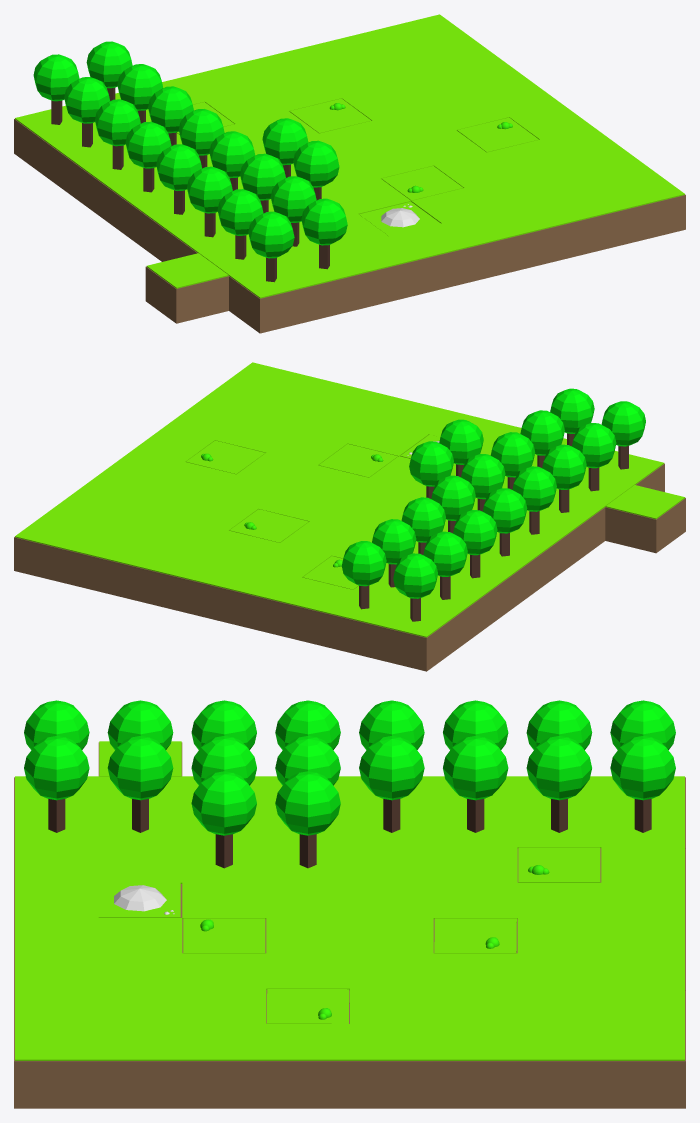
File: Map.glb
3 views of the same model, one above another, from view 1: azimuth 30°, elevation 25°; view 2: azimuth 150°, elevation 25°; view 3: azimuth 270°, elevation 25° (orthographic). The views are drawn at different scales.
Parts seen in each view (by area): view 1: Short Tree.013, Short Tree.014, Blank Tile, Short Tree.006, Short Tree.008, Short Tree.007, Short Tree.003, Short Tree.011, Blank Tile.034, Blank Tile.025, Blank Tile.040, Blank Tile.041 (+48 smaller); view 2: Short Tree.008, Short Tree.001, Blank Tile, Short Tree.007, Short Tree.006, Short Tree.016, Short Tree.011, Short Tree.003, Blank Tile.011, Blank Tile.019, Blank Tile.013, Blank Tile.006 (+48 smaller); view 3: Blank Tile.034, Blank Tile.010, Blank Tile.035, Blank Tile.011, Blank Tile.039, Blank Tile.014, Blank Tile.015, Blank Tile.038, Short Tree.004, Short Tree.010, Short Tree.001, Short Tree.014 (+53 smaller).
Part boxes in pixels (bbox=[...]): Short Tree.013: bbox=[229, 211, 314, 333]; Short Tree.014: bbox=[283, 198, 367, 320]; Blank Tile: bbox=[145, 253, 228, 323]; Short Tree.006: bbox=[106, 121, 188, 243]; Short Tree.008: bbox=[14, 54, 96, 175]; Short Tree.007: bbox=[75, 99, 157, 220]; Short Tree.003: bbox=[45, 77, 126, 198]; Short Tree.011: bbox=[137, 144, 218, 261]; Blank Tile.034: bbox=[601, 171, 685, 242]; Blank Tile.025: bbox=[389, 223, 473, 294]; Blank Tile.040: bbox=[442, 210, 526, 281]; Blank Tile.041: bbox=[495, 197, 579, 268]; Short Tree.008: bbox=[374, 553, 456, 671]; Short Tree.001: bbox=[322, 541, 404, 658]; Blank Tile: bbox=[605, 485, 685, 553]; Short Tree.007: bbox=[436, 510, 516, 627]; Short Tree.006: bbox=[466, 488, 546, 605]; Short Tree.016: bbox=[525, 444, 605, 561]; Short Tree.011: bbox=[496, 466, 575, 583]; Short Tree.003: bbox=[405, 531, 486, 648]; Blank Tile.011: bbox=[14, 514, 95, 583]; Blank Tile.019: bbox=[271, 577, 352, 646]; Blank Tile.013: bbox=[168, 552, 249, 621]; Blank Tile.006: bbox=[117, 539, 198, 608]; Blank Tile.034: bbox=[14, 1024, 99, 1108]; Blank Tile.010: bbox=[516, 1024, 601, 1108]; Blank Tile.035: bbox=[97, 1024, 183, 1108]; Blank Tile.011: bbox=[600, 1024, 685, 1108]; Blank Tile.039: bbox=[181, 1024, 266, 1108]; Blank Tile.014: bbox=[433, 1024, 518, 1108]; Blank Tile.015: bbox=[349, 1024, 434, 1108]; Blank Tile.038: bbox=[265, 1024, 350, 1108]; Short Tree.004: bbox=[517, 736, 601, 848]; Short Tree.010: bbox=[182, 771, 266, 882]; Short Tree.001: bbox=[601, 736, 685, 848]; Short Tree.014: bbox=[14, 736, 98, 848].
Bounding box in the file's own units: 9.01 × 2 × 8.02.
